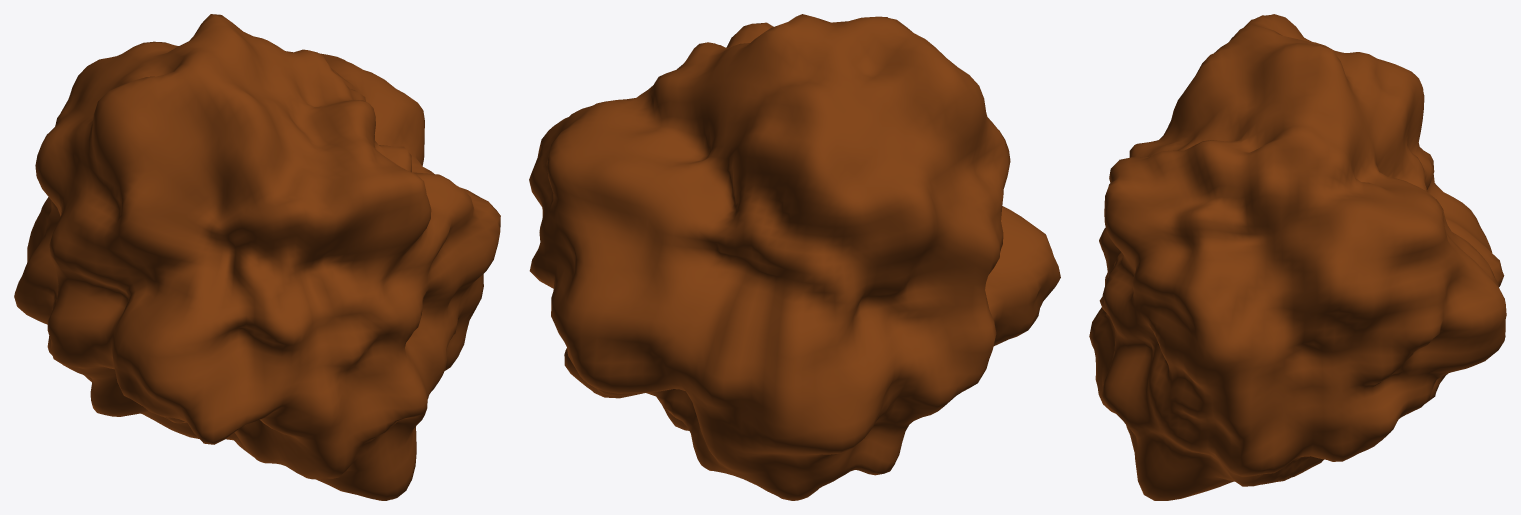
Rendered from asteroid3.fbx.
3 renders of one model, left to right at view 1: azimuth 30°, elevation 25°; view 2: azimuth 150°, elevation 25°; view 3: azimuth 270°, elevation 25°, orthographic. The views are drawn at different scales.
Parts seen in each view (by area): view 1: Cube; view 2: Cube; view 3: Cube.
Part boxes in pixels (box(x1,y1,x2,y2)): Cube: box(14, 14, 500, 500); Cube: box(529, 14, 1060, 500); Cube: box(1089, 14, 1506, 500).
Size of the model in its own units: 197 by 202 by 184.
